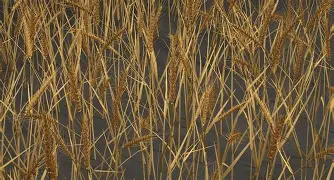crops: (0, 0, 327, 176)
